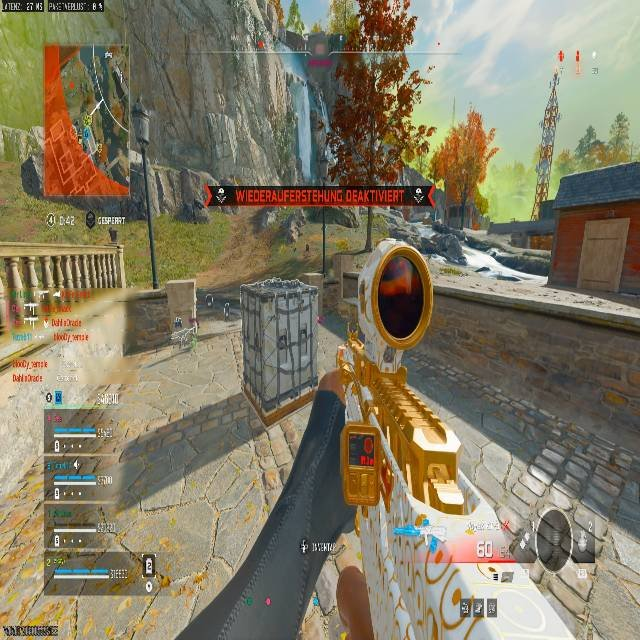player: (289, 221, 299, 247), (174, 316, 181, 328)
